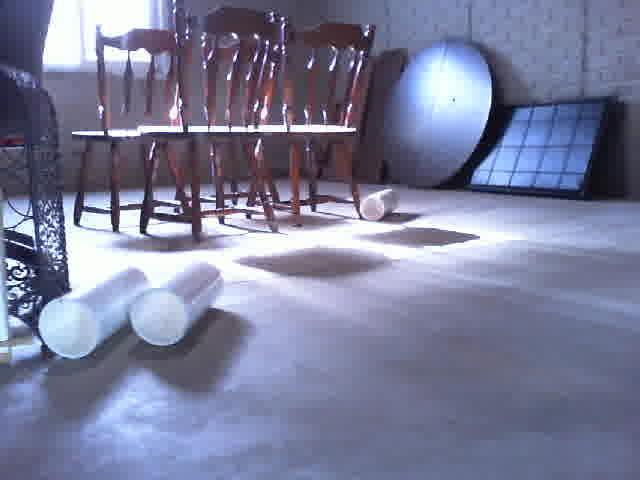coral: (33, 262, 150, 365), (125, 259, 229, 350), (360, 186, 400, 225)
